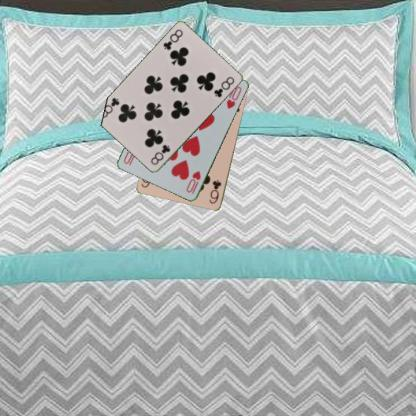10h: (184, 168, 202, 195)
6c: (206, 177, 223, 205)
8c: (148, 142, 172, 167), (161, 26, 184, 52)
